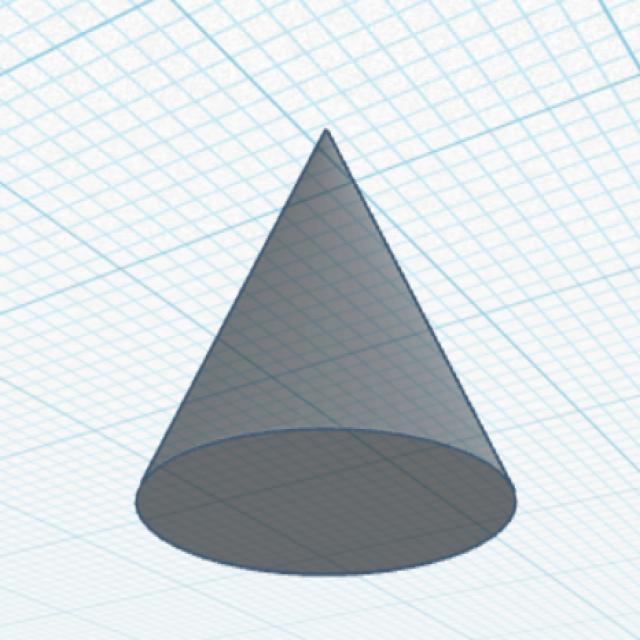cone: (130, 124, 519, 582)
